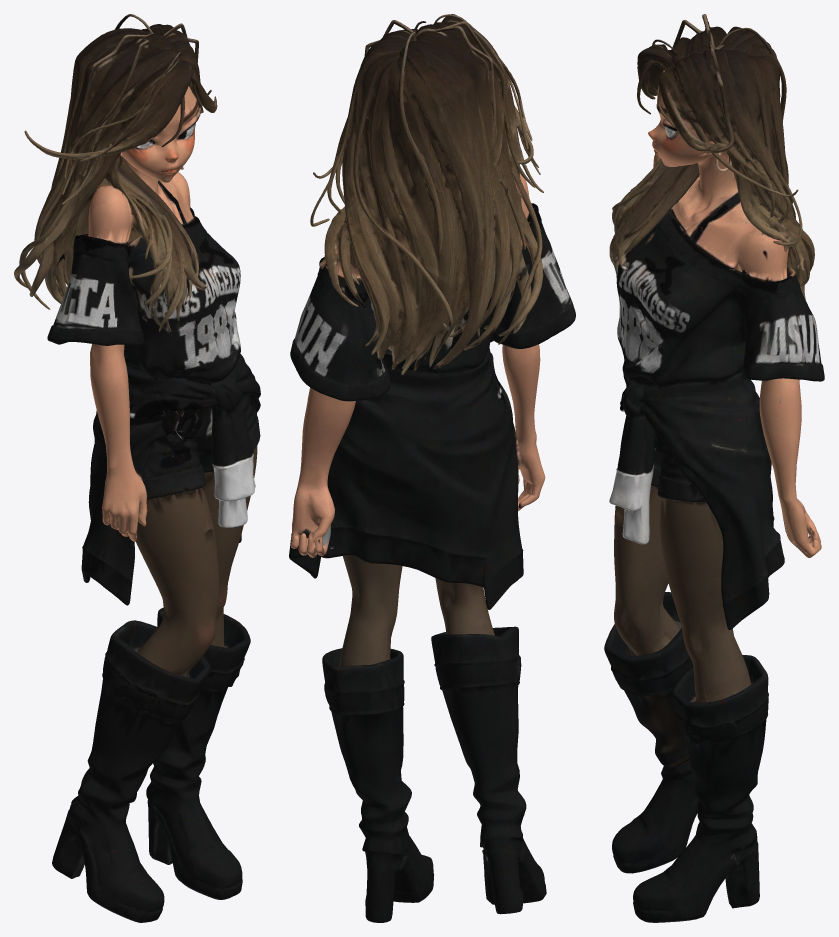
The model's file is character.glb.
The picture shows the model from 3 angles, left to right: view 1: azimuth 30°, elevation 25°; view 2: azimuth 150°, elevation 25°; view 3: azimuth 270°, elevation 25°; orthographic projection. The views are drawn at different scales.
Parts seen in each view (by area): view 1: Mesh_0; view 2: Mesh_0; view 3: Mesh_0.
Part boxes in pixels (left/top/right/bottom): Mesh_0: left=14, top=14, right=260, bottom=922; Mesh_0: left=289, top=14, right=575, bottom=922; Mesh_0: left=604, top=14, right=824, bottom=922.
Bounding box in the file's own units: 0.5251 × 1.9 × 0.4382.
Materials: 1 (1 with a texture image).
